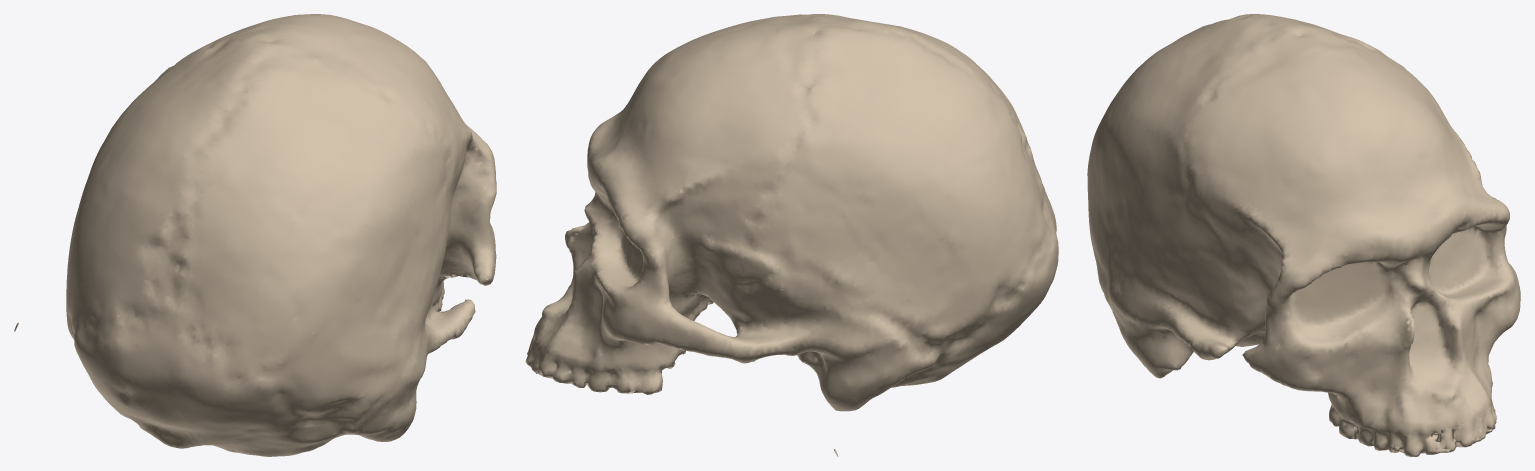
Rendered from predmosti.glb.
3 views of the same model, side by side, from view 1: azimuth 30°, elevation 25°; view 2: azimuth 150°, elevation 25°; view 3: azimuth 270°, elevation 25° (orthographic). The views are drawn at different scales.
Bounding box in the file's own units: 0.9983 × 0.7576 × 0.9127.
